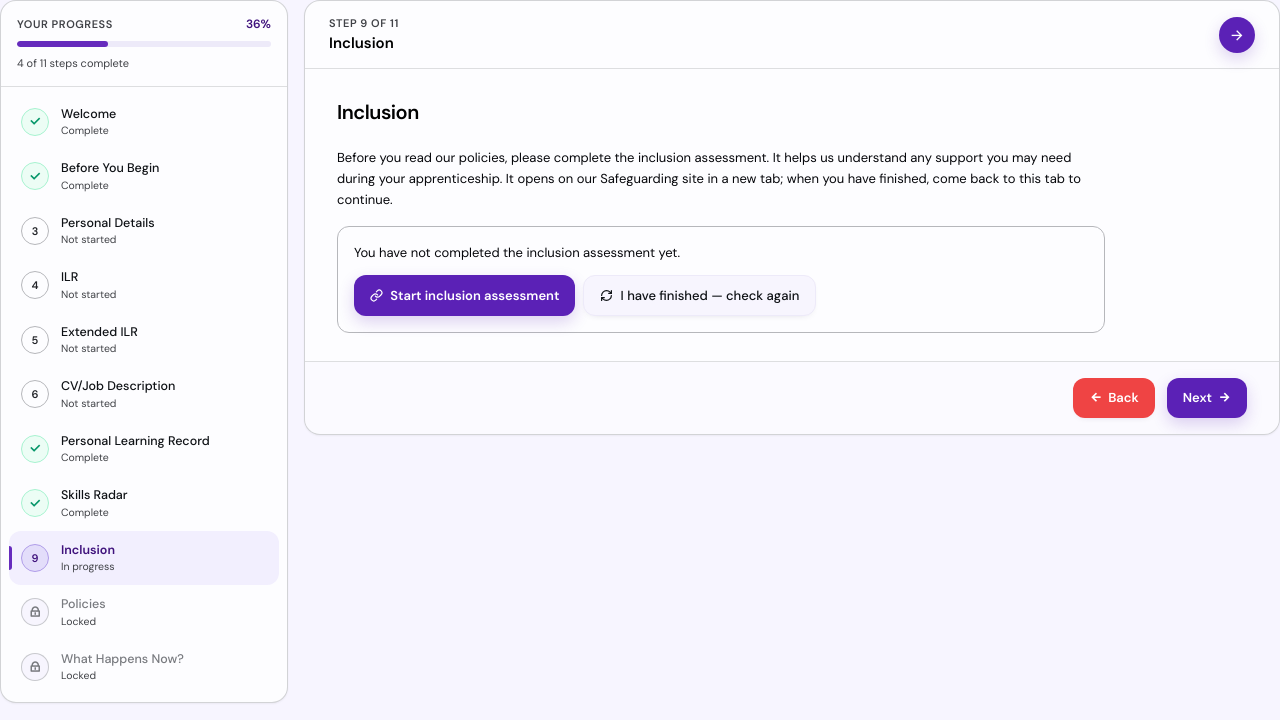
the Inclusion step › counts as complete once a check finds the response
Expected: the text "You have not completed the inclusion assessment yet." is shown, left=354, top=244, right=680, bottom=261
Click the button "I have finished — check again" at (700, 296), box left=583, top=275, right=816, bottom=316
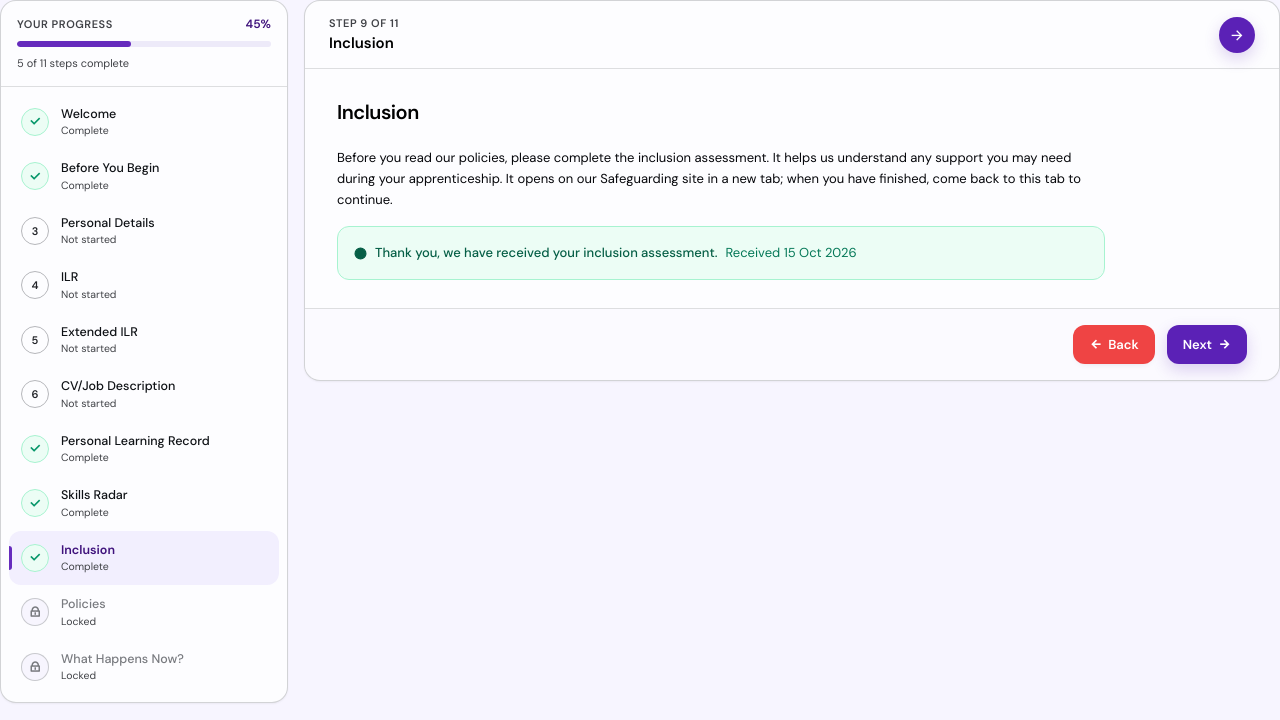
Expected: the text "Thank you, we have received your inclusion assessment." is shown, left=375, top=244, right=718, bottom=261
Expected: the text "Received 15 Oct 2026" is shown, left=726, top=243, right=857, bottom=263
Expected: the link "Start inclusion assessment" is gone
